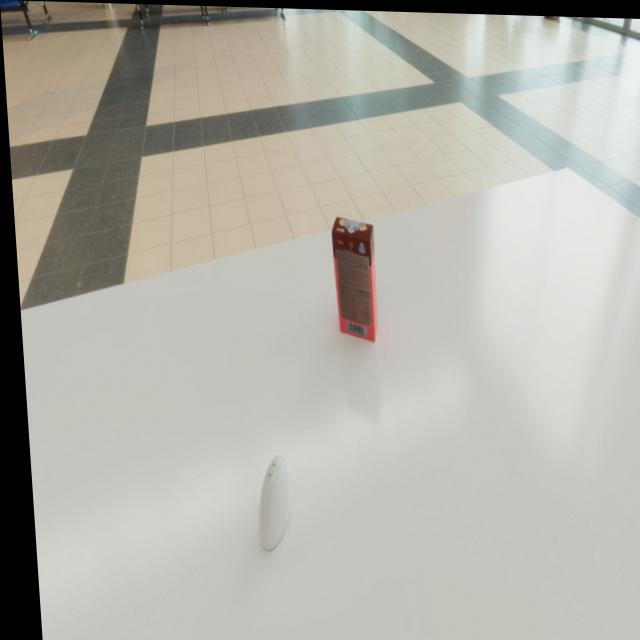HelloPanda: (328, 215, 377, 340)
Salt: (247, 453, 286, 549)
